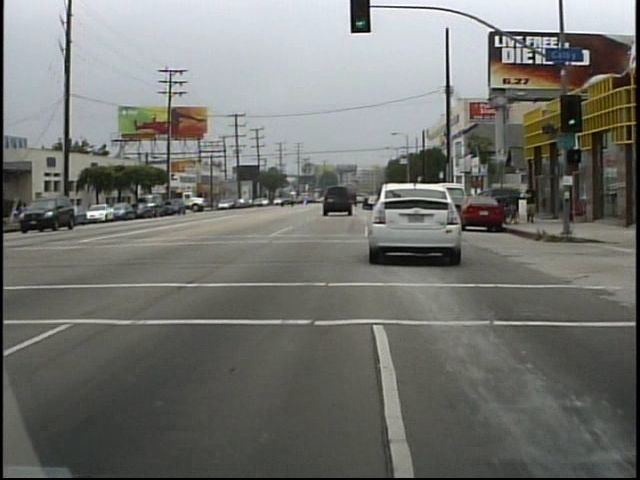person: (520, 179, 542, 231), (26, 198, 27, 229)
